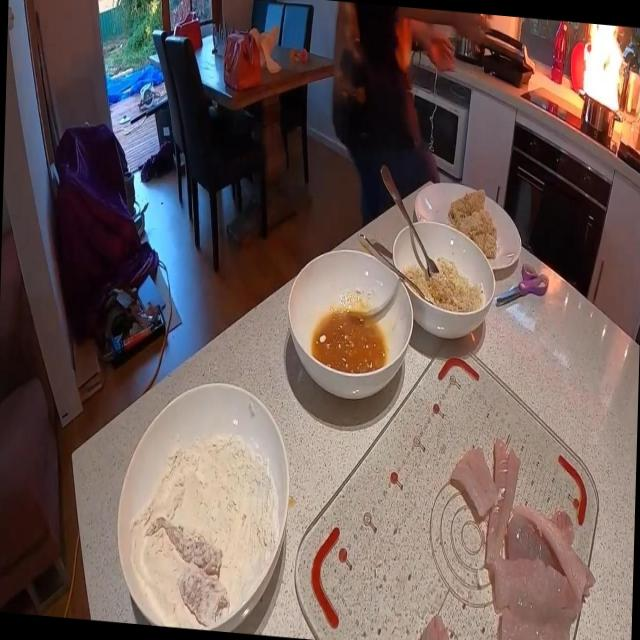fire: (548, 20, 630, 152)
